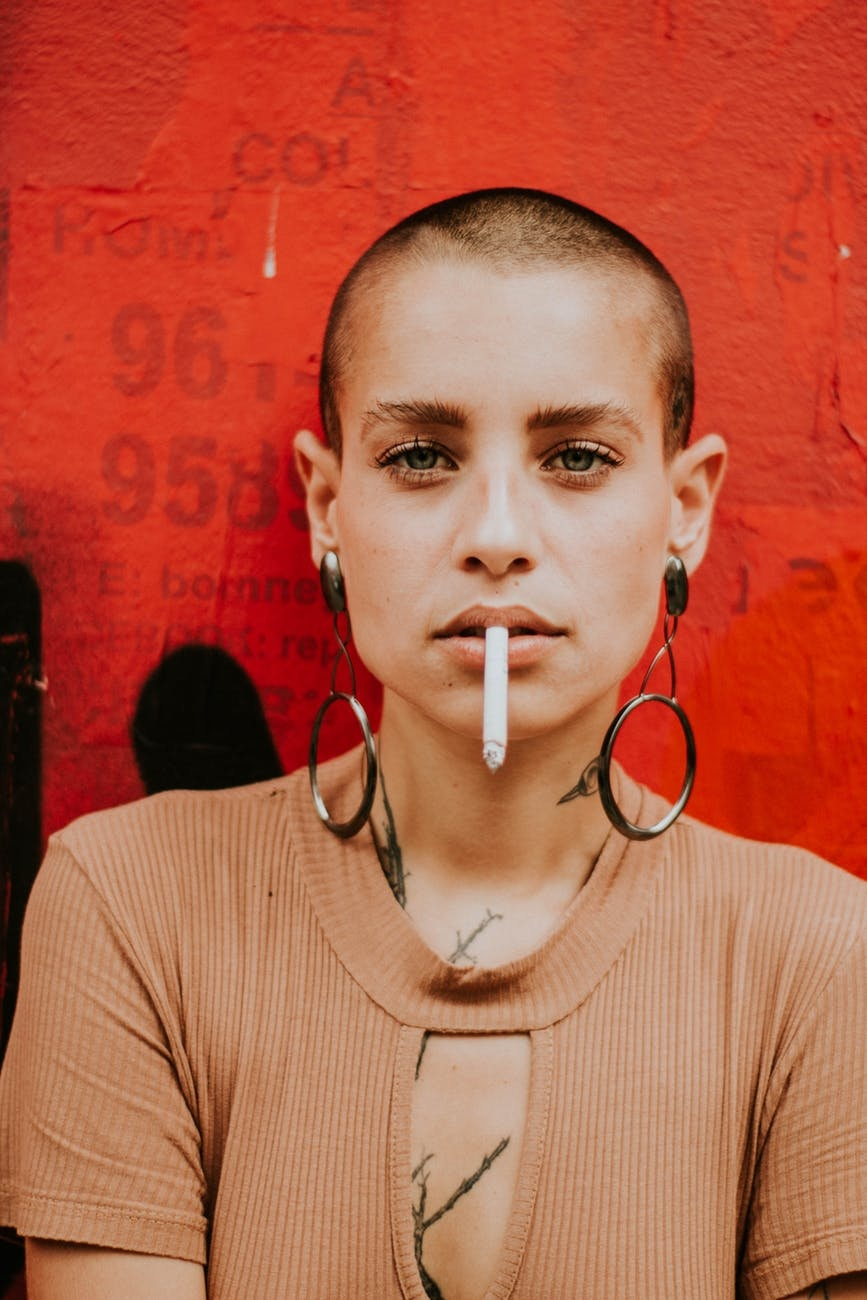sigaretta: (478, 618, 516, 770)
